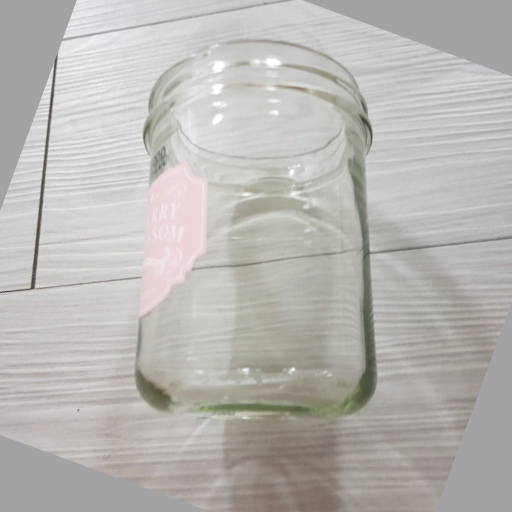Glass_5: (123, 36, 385, 421)
